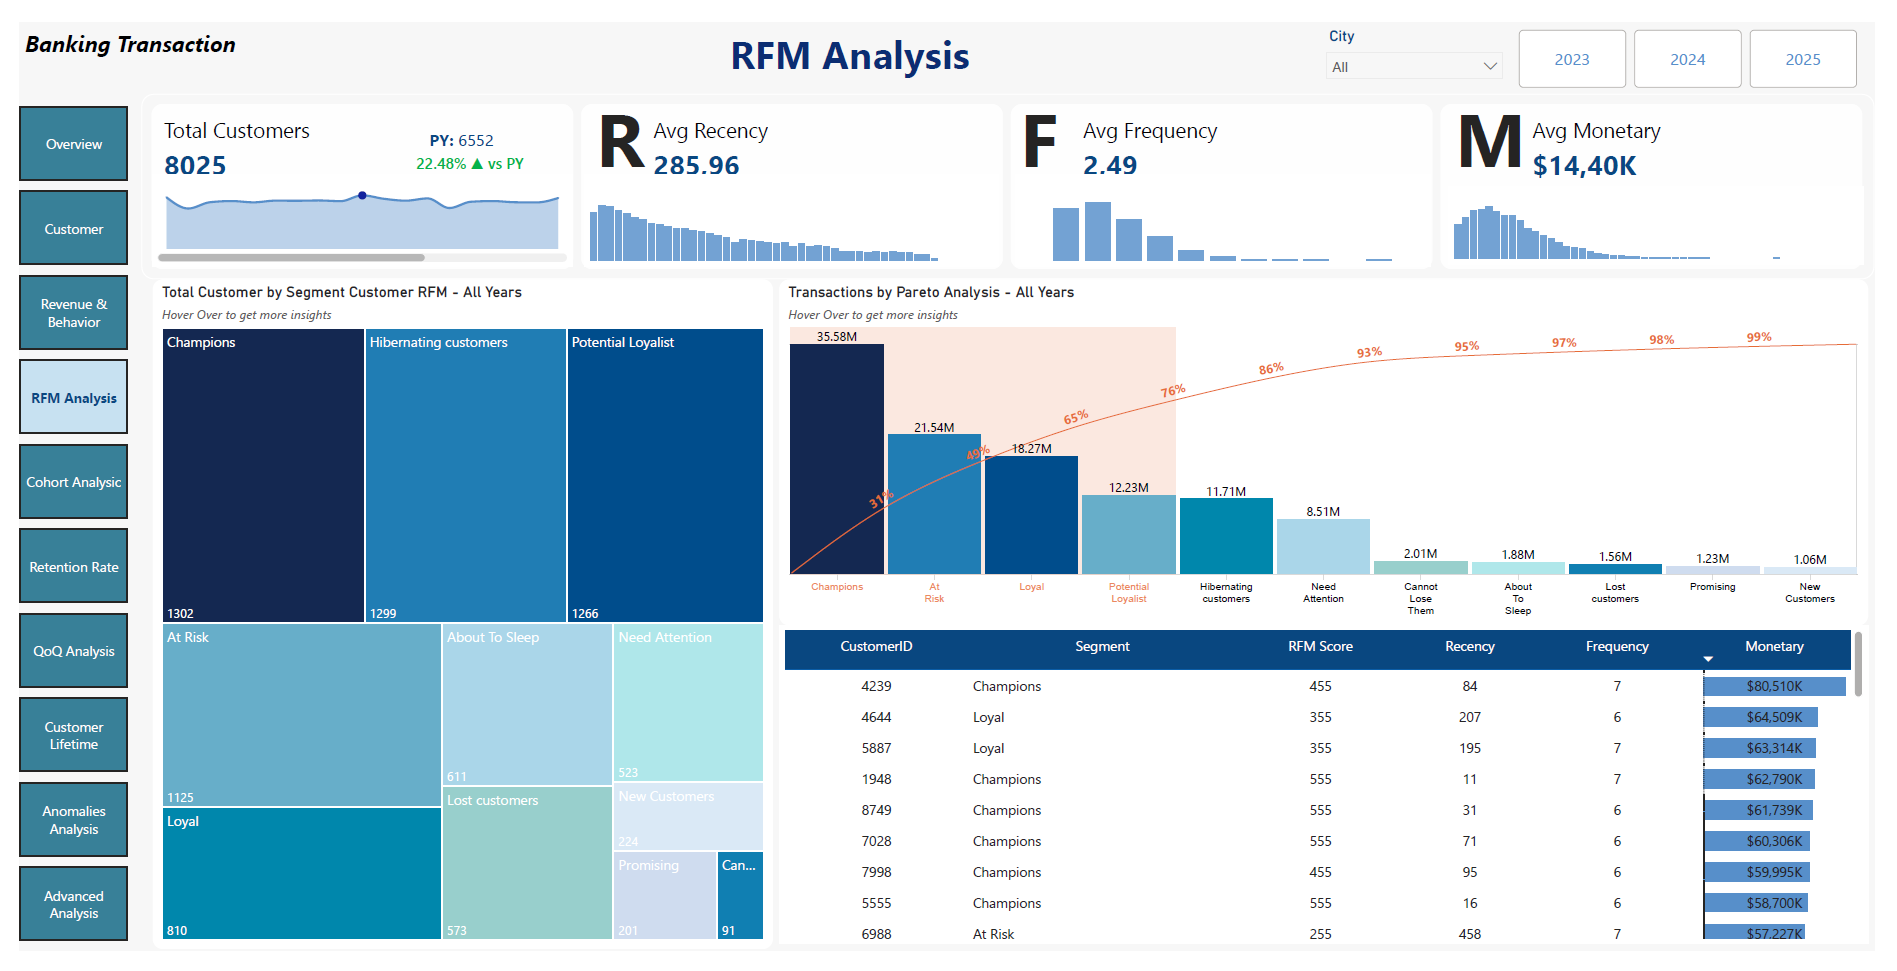

Layout of this report page (visuals, bound fields, positions):
{"tool":"powerbi","page":{"name":"RFM Analysis","canvas":[1800,900],"ordinal":4},"visuals":[{"type":"cardVisual","fields":{"Data":["All Measures.Total Customers","All Measures.Avg Recency","All Measures.Avg Frequency","All Measures.Avg Monetary"]},"box":[117.7,68.7,1682.6,179.9],"z":0},{"type":"cardVisual","fields":{"Data":["All Measures.Customer Growth KPI"]},"box":[356.5,109.6,178.2,50.7],"z":1000},{"type":"lineChart","fields":{"Category":["Dim_Date.Year-Month"],"Y":["All Measures.Total Customers","All Measures.Max Customer","All Measures.Min Customer"]},"box":[128.9,147,406.7,90],"z":2000},{"type":"clusteredColumnChart","fields":{"Category":["RFM.R (bins)"],"Y":["All Measures.Total Customers"]},"box":[547.8,147,402.2,90],"z":3000},{"type":"advancedSlicerVisual","fields":{"Values":["Dim_Date.Year"]},"box":[1450,1.7,338.3,66.7],"z":4000},{"type":"slicer","fields":{"Values":["Dim_Location.BranchCity"]},"box":[1258.3,0,191.7,66.7],"z":5000},{"type":"textbox","box":[554.3,57.2,93.2,119.4],"z":6000},{"type":"textbox","box":[966.4,57.2,93.2,119.4],"z":7000},{"type":"textbox","box":[1388.3,57.2,93.2,281.3],"z":8000},{"type":"clusteredColumnChart","fields":{"Y":["All Measures.Total Customers"],"Category":["RFM.F (bins)"]},"box":[966.4,147.2,402.3,89.9],"z":9000},{"type":"clusteredColumnChart","fields":{"Y":["All Measures.Total Customers"],"Category":["RFM.M (bins)"]},"box":[1386.6,158.6,402.3,76.9],"z":10000},{"type":"treemap","fields":{"Values":["All Measures.Total Customers"],"Group":["RFM.SegmentCustomerRFM"]},"box":[129.2,248.5,601.7,650.8],"z":11000},{"type":"paretoEDD8E69761BA4B7BB3AA6D813990D7BF","fields":{"values":["All Measures.Total Amount"],"categories":["RFM.SegmentCustomerRFM"]},"box":[737.5,248.5,1056.3,336.8],"z":12000},{"type":"tableEx","fields":{"Values":["RFM.CustomerID","RFM.SegmentCustomerRFM","RFM.RFM_Score","Sum(RFM.R)","Sum(RFM.F)","Sum(RFM.M)"]},"box":[737.5,585.4,1056.3,309],"z":13000},{"type":"textbox","box":[684.5,0,300,67.2],"z":15000},{"type":"textbox","box":[0,0,300,67.2],"z":16000},{"type":"pageNavigator","box":[0,81,105.2,819],"z":16001}]}

Visuals, with their boxes on the page's 1800x900 design canvas (x1, y1, x2, y2). These are canvas units, not pixel positions in the 1897x971 screenshot, which may show the page scaled, cropped or inside an application window:
cardVisual - All Measures.Total Customers x All Measures.Avg Recency: rect(118, 69, 1800, 249)
cardVisual - All Measures.Customer Growth KPI: rect(356, 110, 535, 160)
lineChart - Dim_Date.Year-Month x All Measures.Total Customers: rect(129, 147, 536, 237)
clusteredColumnChart - RFM.R (bins) x All Measures.Total Customers: rect(548, 147, 950, 237)
advancedSlicerVisual - Dim_Date.Year: rect(1450, 2, 1788, 68)
slicer - Dim_Location.BranchCity: rect(1258, 0, 1450, 67)
textbox: rect(554, 57, 648, 177)
textbox: rect(966, 57, 1060, 177)
textbox: rect(1388, 57, 1482, 338)
clusteredColumnChart - All Measures.Total Customers x RFM.F (bins): rect(966, 147, 1369, 237)
clusteredColumnChart - All Measures.Total Customers x RFM.M (bins): rect(1387, 159, 1789, 236)
treemap - All Measures.Total Customers x RFM.SegmentCustomerRFM: rect(129, 248, 731, 899)
paretoEDD8E69761BA4B7BB3AA6D813990D7BF - All Measures.Total Amount x RFM.SegmentCustomerRFM: rect(738, 248, 1794, 585)
tableEx - RFM.CustomerID x RFM.SegmentCustomerRFM: rect(738, 585, 1794, 894)
textbox: rect(684, 0, 984, 67)
textbox: rect(0, 0, 300, 67)
pageNavigator: rect(0, 81, 105, 900)
